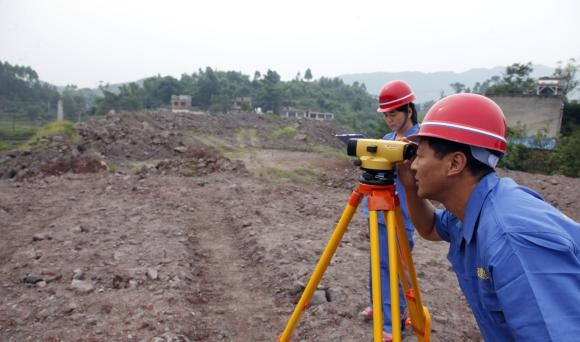red: (413, 92, 508, 205), (376, 78, 418, 132)
